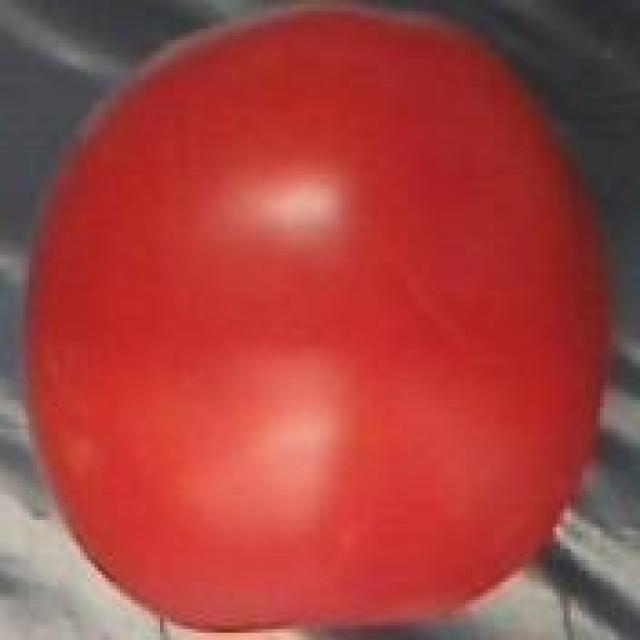ripe tomato: (11, 7, 614, 640)
